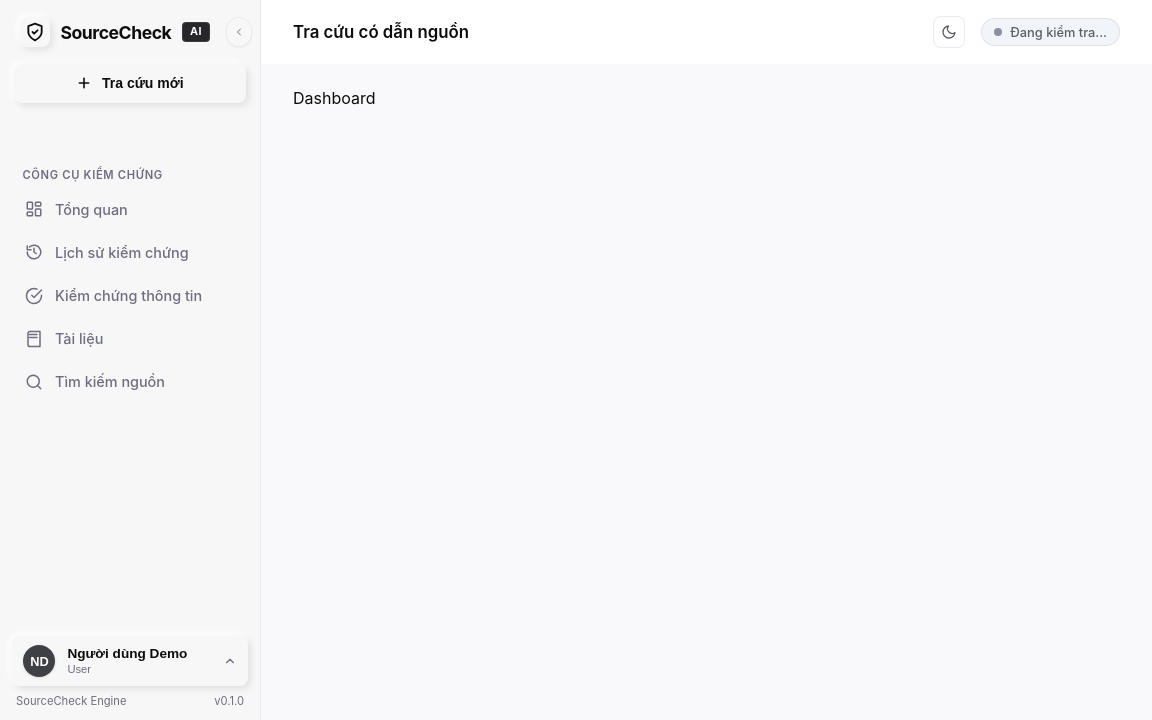
it: App Shell & Layout (FE-02, FE-04.2.1 & FE-04.2.2) › 6. Demo User Menu in Sidebar (FE-04.2.1) › opens Settings from the profile menu
Expected: the text "Người dùng Demo" is shown, left=67, top=646, right=187, bottom=661
Step 1. Click the button with test id "user-menu-trigger" → {"x": 130, "y": 661}, box left=12, top=636, right=248, bottom=686
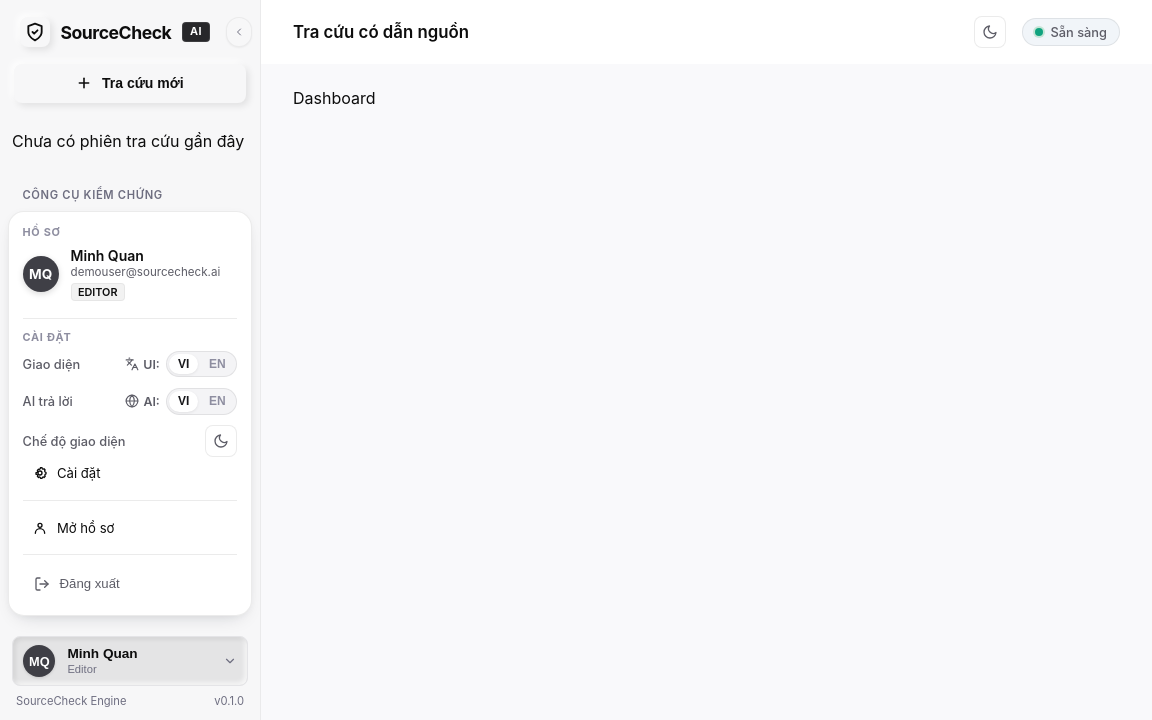
Step 2. Click the menu item with test id "profile-settings-btn" → {"x": 130, "y": 473}, box left=23, top=457, right=237, bottom=490
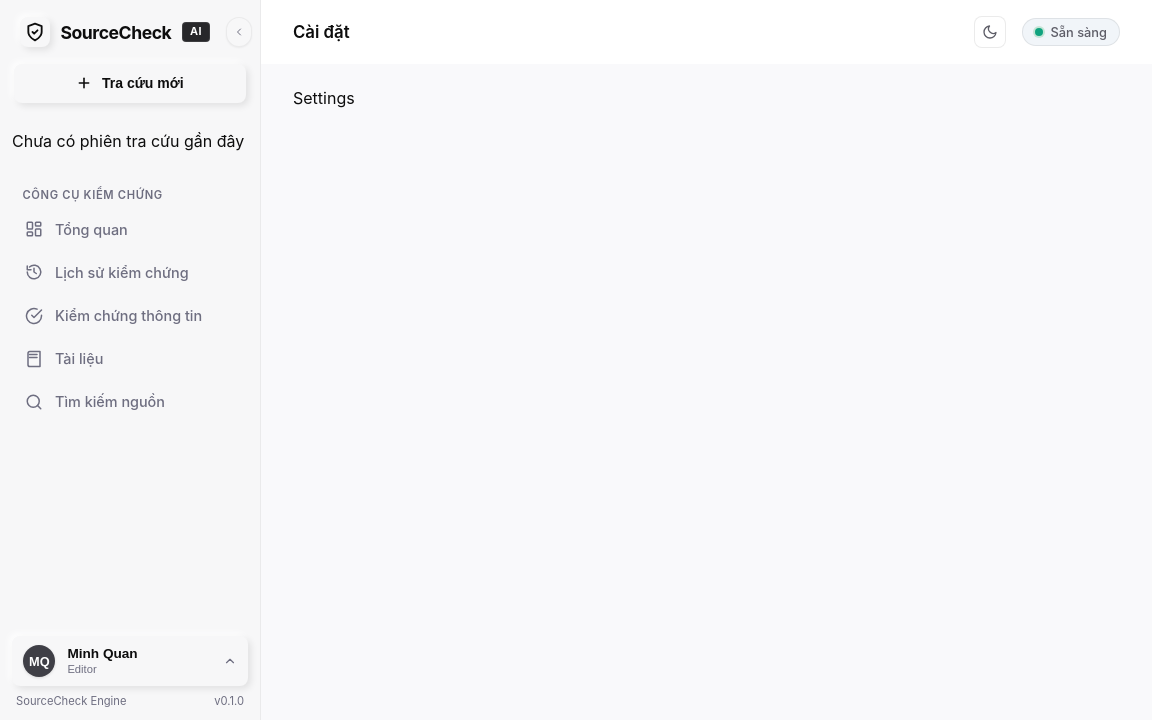
Expected: the text "Settings" is shown, left=293, top=88, right=355, bottom=108
